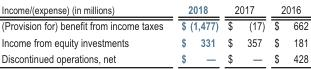table: (0, 1, 307, 65)
table column: (0, 1, 171, 65), (171, 1, 222, 65), (222, 1, 268, 65), (268, 1, 307, 65)
table column header: (0, 1, 307, 16)
table row: (0, 32, 307, 49), (0, 16, 307, 32), (0, 49, 307, 65), (0, 1, 307, 16)
